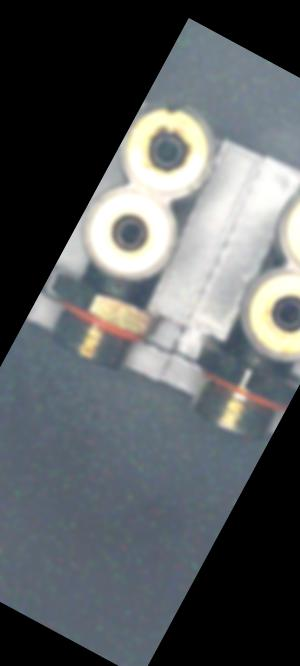bump: (150, 82, 203, 133)
craze: (102, 272, 128, 301), (246, 345, 269, 372)
